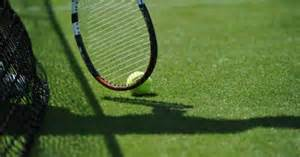tennis_ball: (126, 71, 153, 97)
